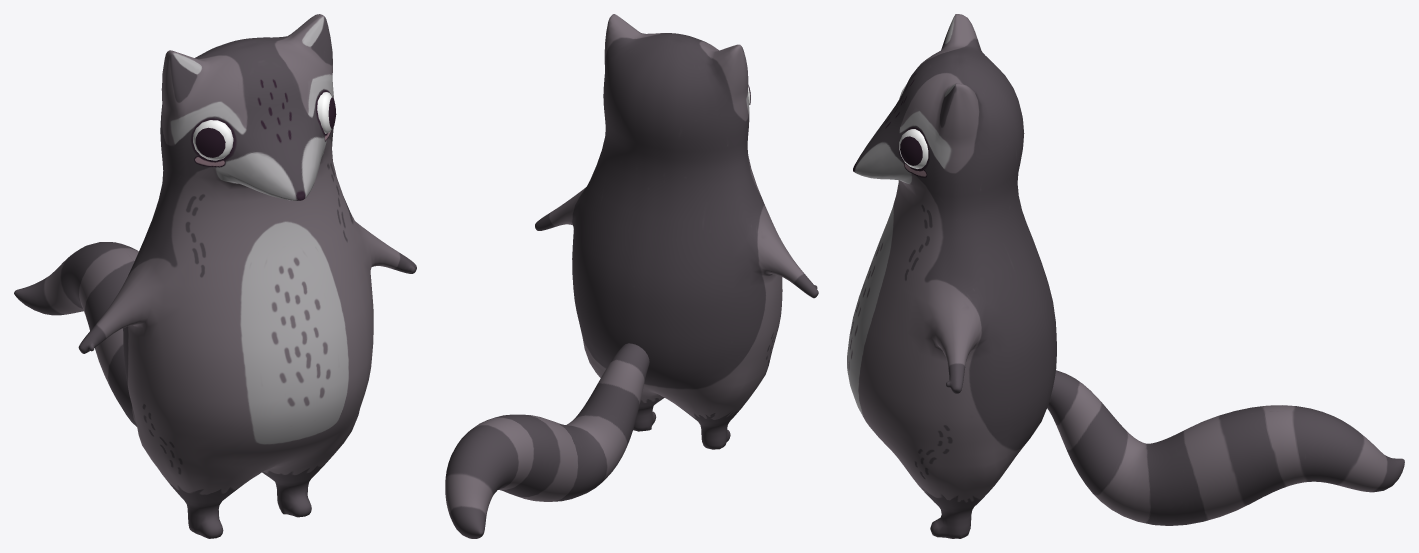
The model's file is racoon.glb.
3 views of the same model, side by side, from view 1: azimuth 30°, elevation 25°; view 2: azimuth 150°, elevation 25°; view 3: azimuth 270°, elevation 25° (orthographic). The views are drawn at different scales.
Parts seen in each view (by area): view 1: body, tail, eye; view 2: body, tail; view 3: body, tail, eye.
Part boxes in pixels (x1,y1,x2,y2): body: (78, 14, 416, 538); tail: (14, 242, 138, 426); eye: (193, 92, 336, 160); body: (535, 14, 818, 449); tail: (445, 343, 649, 538); body: (847, 14, 1056, 538); tail: (1047, 370, 1404, 525); eye: (899, 85, 928, 168).
Bounding box in the file's own units: 0.4609 × 0.6363 × 0.6906.
1 material, 1 textured.
